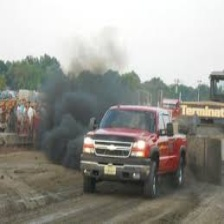smoke: (46, 79, 82, 165)
